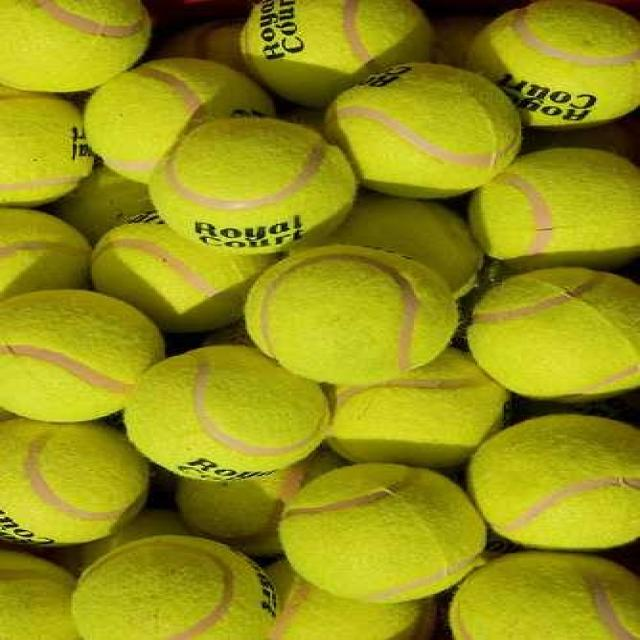Tennis_Ball: (120, 344, 350, 485), (249, 252, 462, 391), (285, 459, 472, 597), (168, 117, 369, 240), (464, 412, 640, 542), (0, 288, 168, 419), (471, 411, 640, 540), (469, 0, 640, 125), (91, 214, 275, 330), (340, 69, 510, 192), (474, 274, 640, 396), (440, 155, 640, 256), (324, 349, 498, 464), (80, 539, 278, 640), (244, 0, 429, 107), (81, 62, 256, 174), (0, 430, 158, 546), (252, 557, 462, 640), (460, 544, 640, 640), (0, 0, 156, 96), (0, 85, 79, 215), (0, 206, 103, 290), (0, 544, 77, 640)
